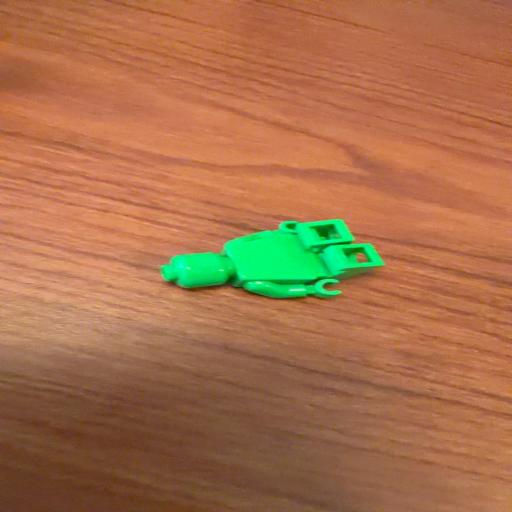UnoQ-minifig-detector: (161, 219, 384, 299)
